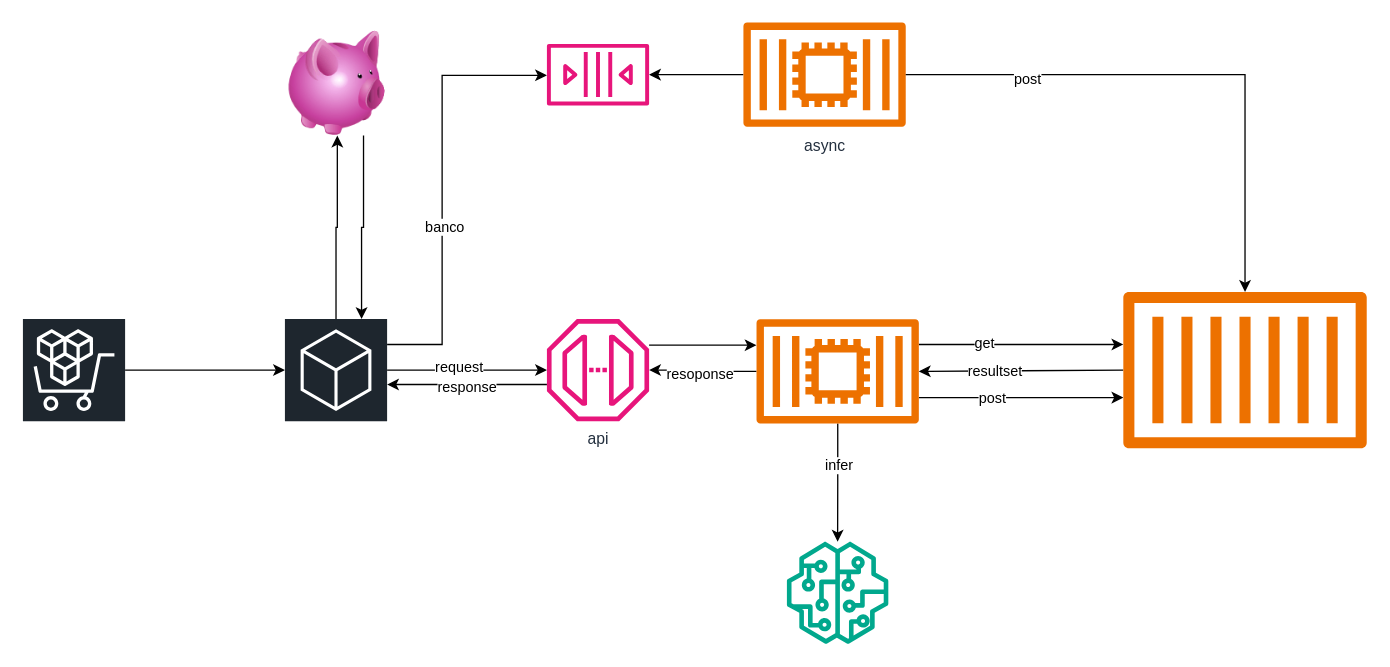
The diagram is 1390 pixels wide and 667 high, and some of its shapes have lost their labels. The shapes that lost their labels are listed below. From the top down, each one's box as (x1, y1, x2, y2) in pixels, then its label:
(546, 43, 648, 105): sqs
(1123, 291, 1366, 448): redis
